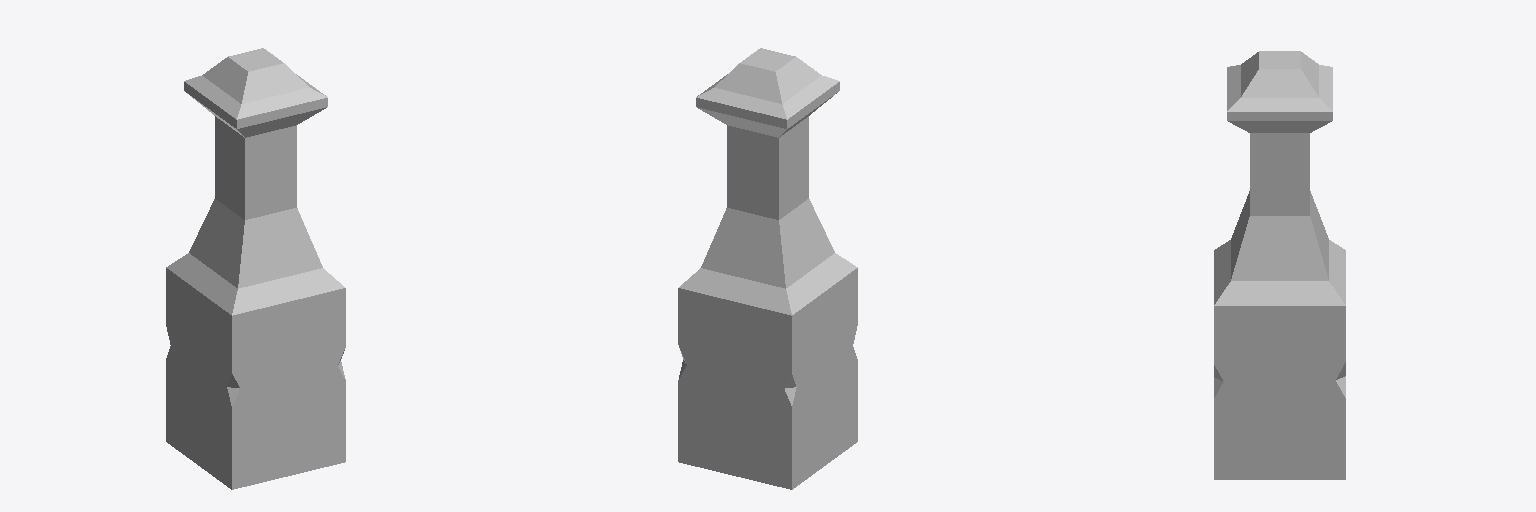
File: inferno_tower.obj
3 renders of one model, left to right at view 1: azimuth 30°, elevation 25°; view 2: azimuth 150°, elevation 25°; view 3: azimuth 270°, elevation 25°, orthographic.
Visible parts, largest first — view 1: Cube; view 2: Cube; view 3: Cube.
Boxes of the visible parts, <box> form: Cube: <box>166,48,345,489</box>; Cube: <box>678,48,857,489</box>; Cube: <box>1214,51,1345,479</box>.
Size of the model in its own units: 2 by 6.58 by 2.